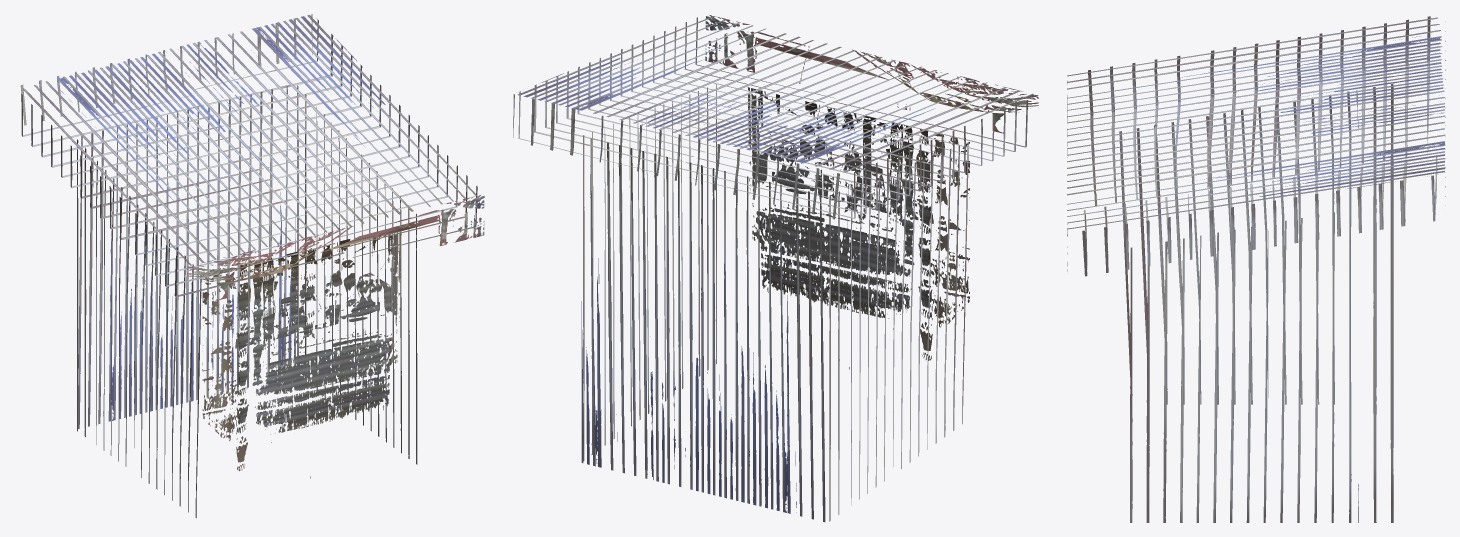
The model's file is Tapri.fbx.
3 renders of one model, left to right at view 1: azimuth 30°, elevation 25°; view 2: azimuth 150°, elevation 25°; view 3: azimuth 270°, elevation 25°, orthographic. The views are drawn at different scales.
Parts seen in each view (by area): view 1: Tapri; view 2: Tapri; view 3: Tapri.
Boxes of the visible parts, x1,y1,x2,y2 form: Tapri: (20, 14, 484, 518); Tapri: (513, 15, 1038, 522); Tapri: (1067, 16, 1445, 522).
Bounding box in the file's own units: 1573 × 1699 × 1577.
Materials: 1 (1 with a texture image).
